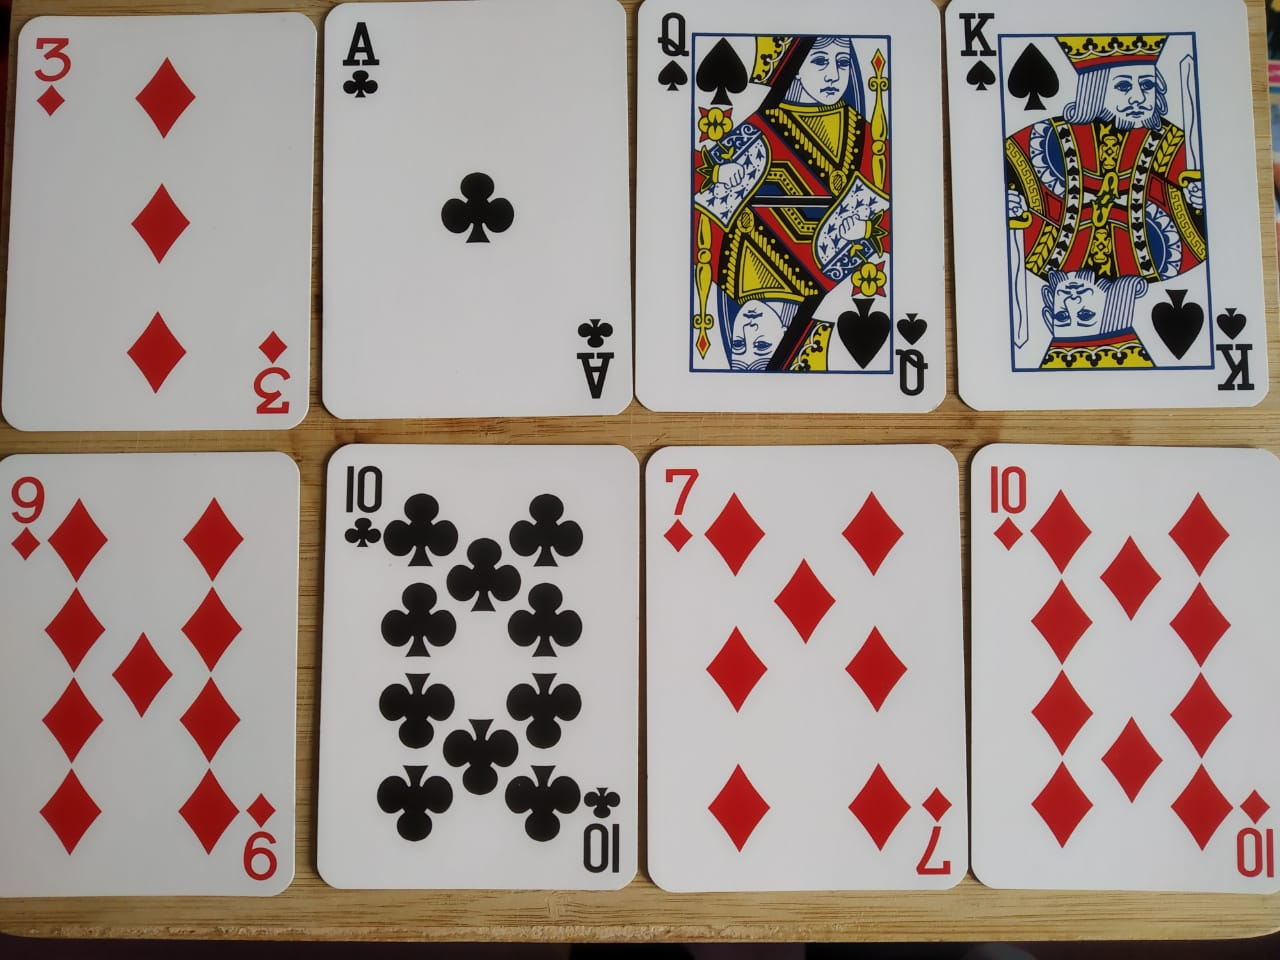ace: (319, 1, 643, 430)
king: (957, 6, 1280, 422)
nine: (1, 449, 304, 918)
queen: (630, 1, 959, 433)
seven: (641, 434, 977, 911)
ten: (310, 425, 648, 908), (969, 431, 1280, 911)
three: (1, 4, 329, 440)
